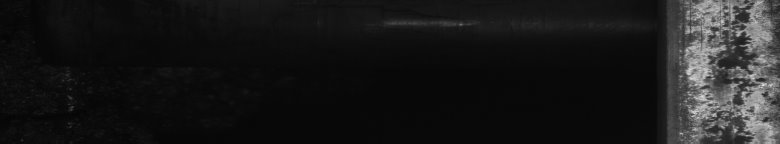kb: (679, 4, 776, 136)
